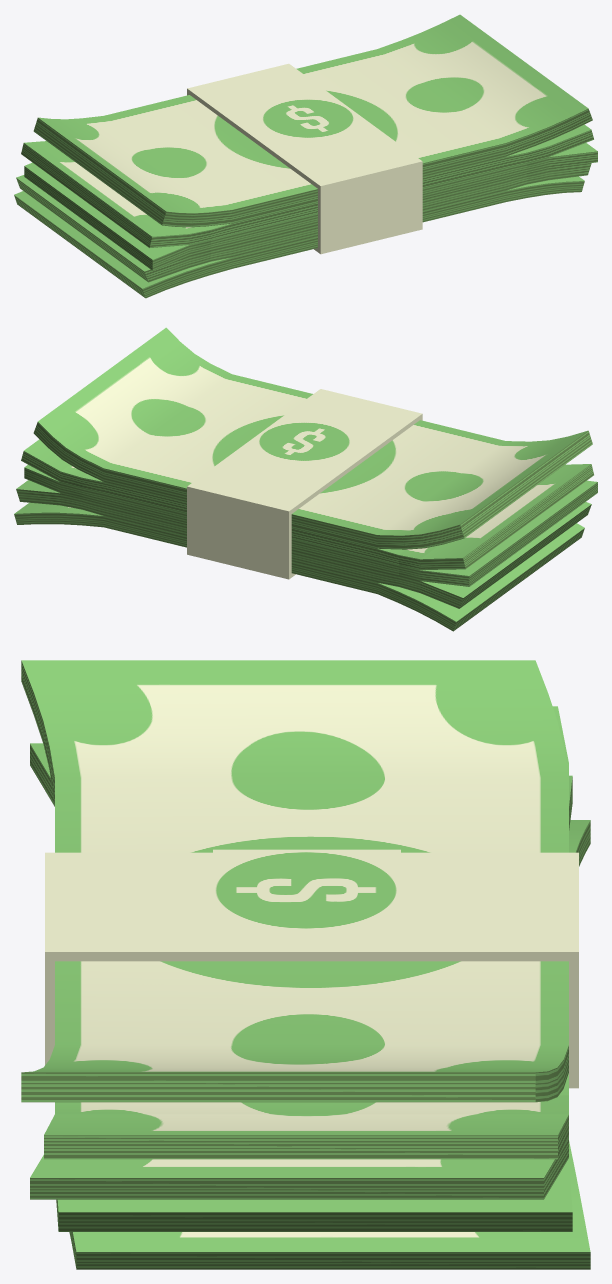
The model's file is M_Bunch_02.fbx.
3 renders of one model, top to bottom at view 1: azimuth 30°, elevation 25°; view 2: azimuth 150°, elevation 25°; view 3: azimuth 270°, elevation 25°, orthographic. The views are drawn at different scales.
Visible parts, largest first — view 1: M_Bunch_02; view 2: M_Bunch_02; view 3: M_Bunch_02.
Part boxes in pixels (x1,y1,x2,y2): M_Bunch_02: (14, 14, 597, 298); M_Bunch_02: (14, 327, 597, 631); M_Bunch_02: (21, 660, 590, 1269).
Bounding box in the file's own units: 0.6571 × 0.1338 × 0.362.
